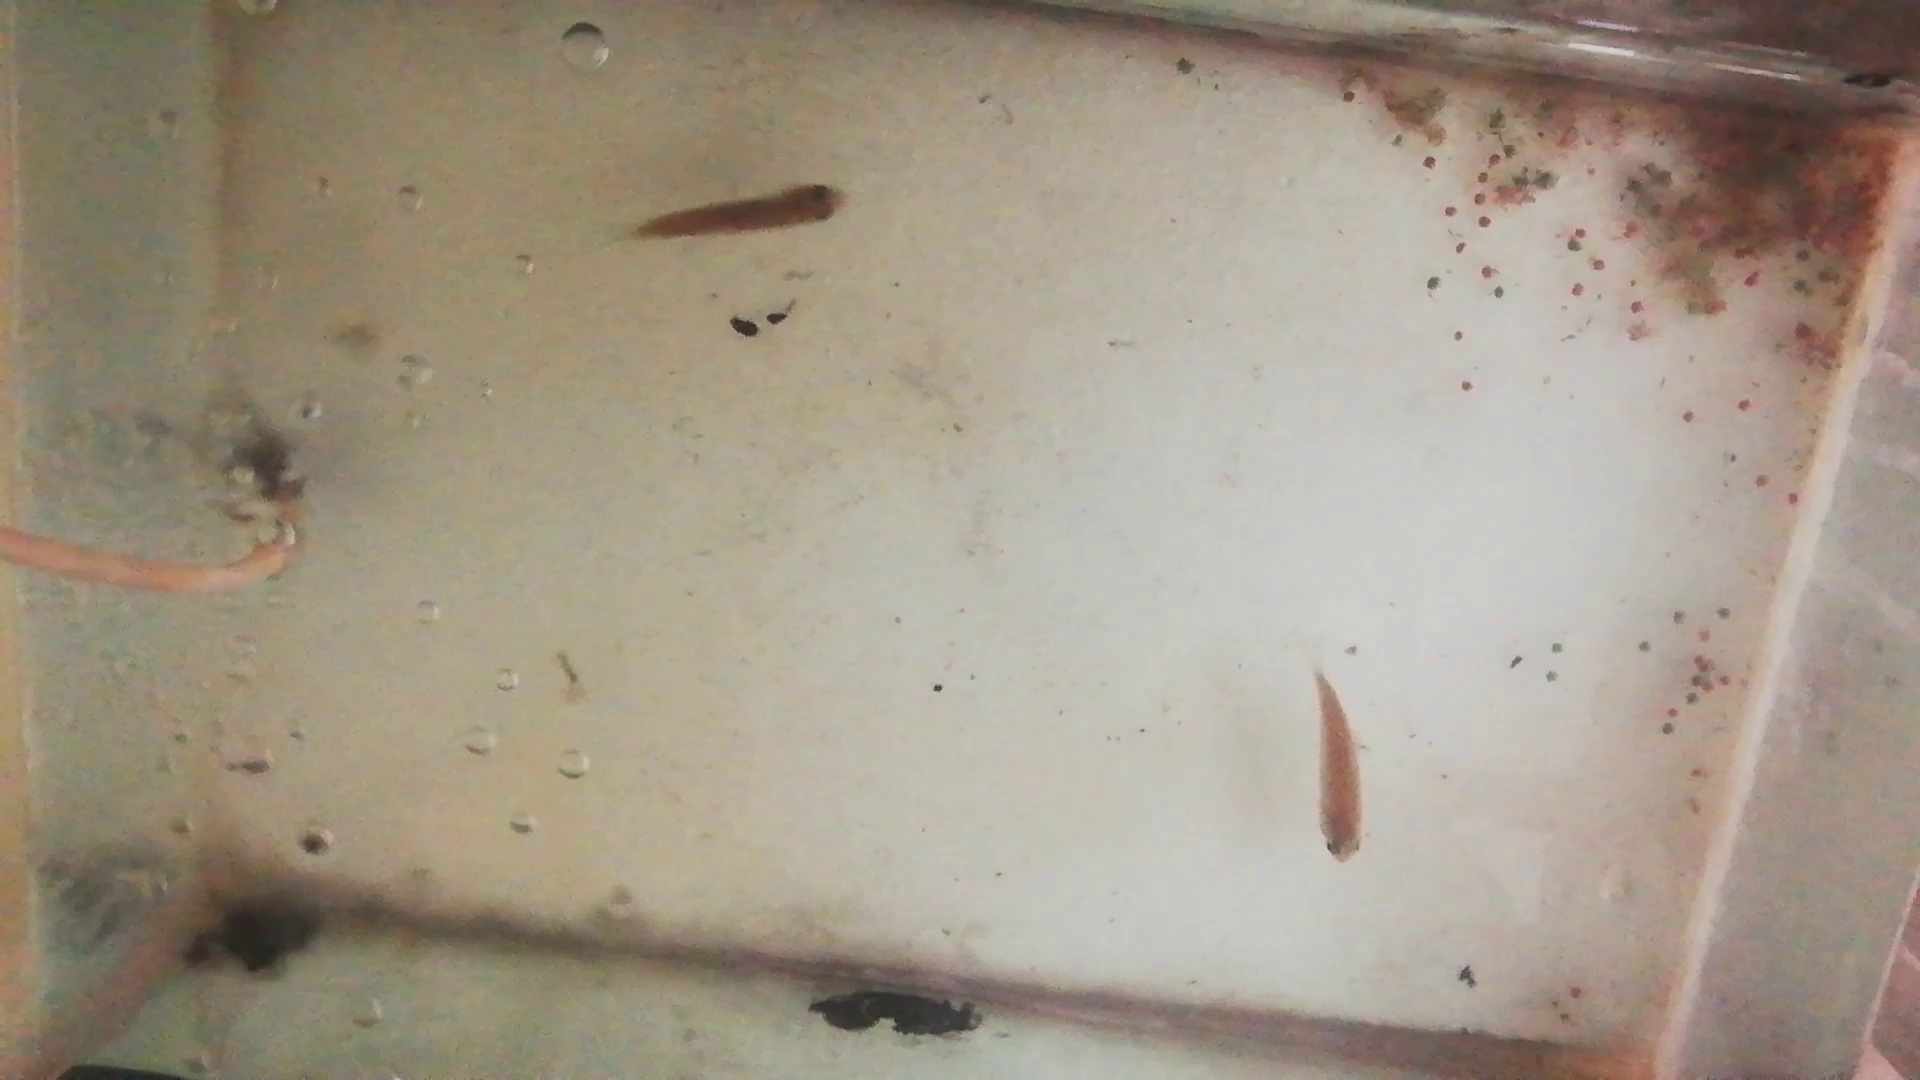fish: (640, 181, 851, 240), (1309, 676, 1370, 862)
